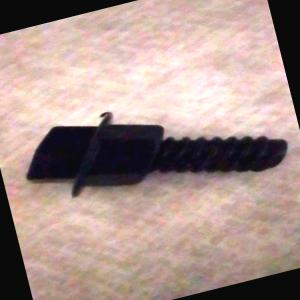parafuso: (14, 68, 292, 226)
